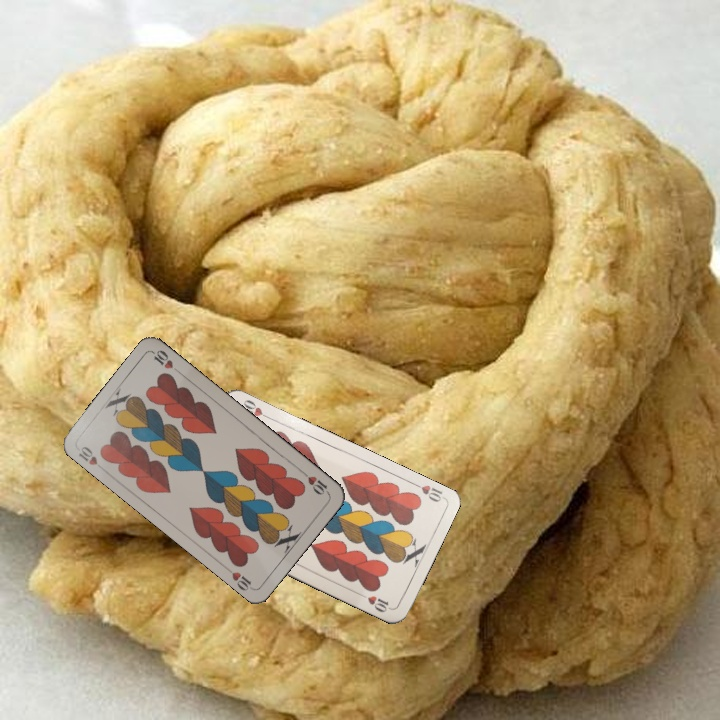H10: (297, 467, 331, 498), (408, 478, 446, 505), (75, 442, 107, 473)
